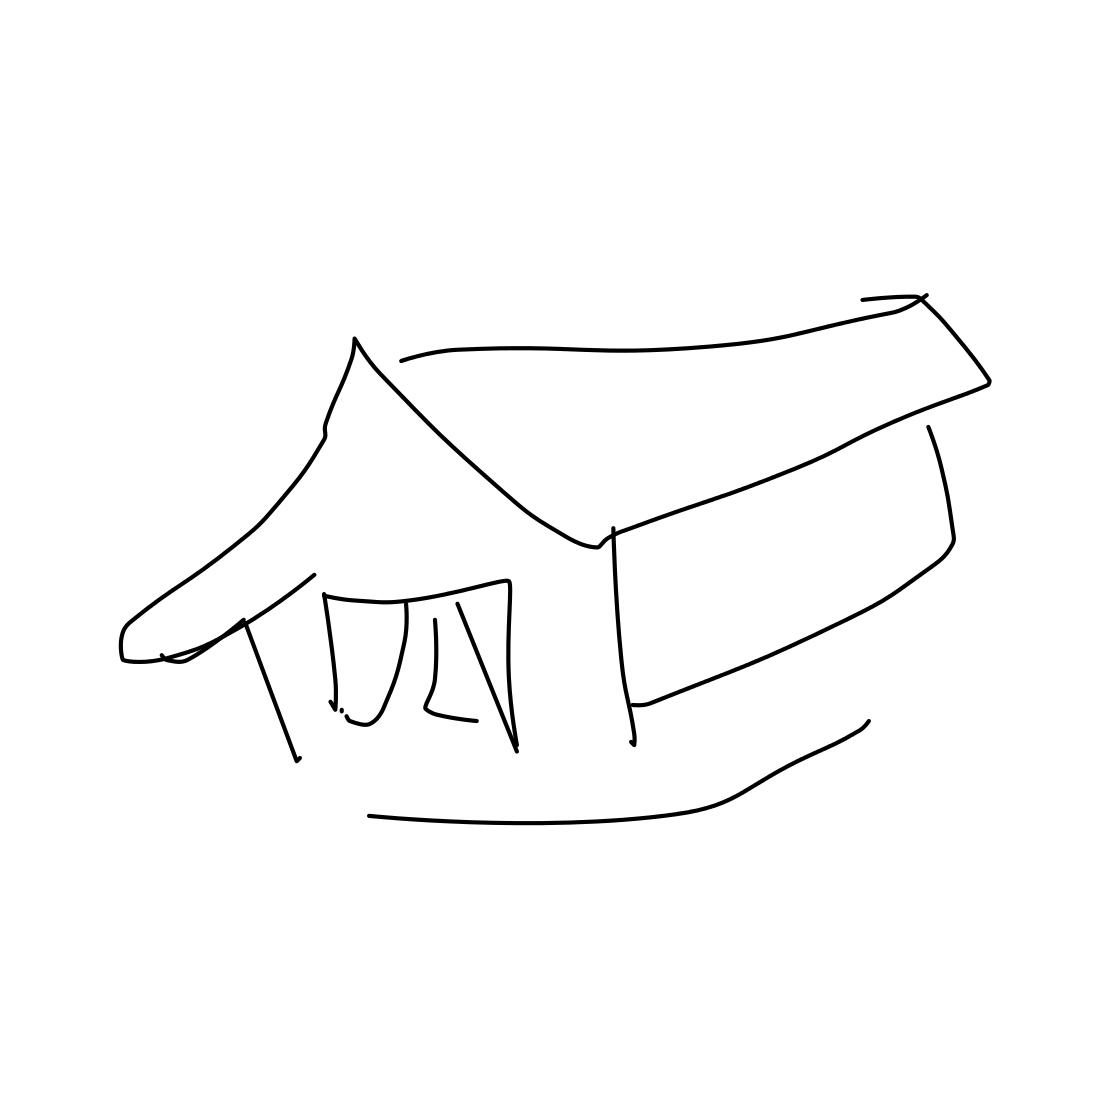House: (99, 206, 1021, 836)
